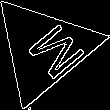M_SW: (8, 15, 80, 83)
